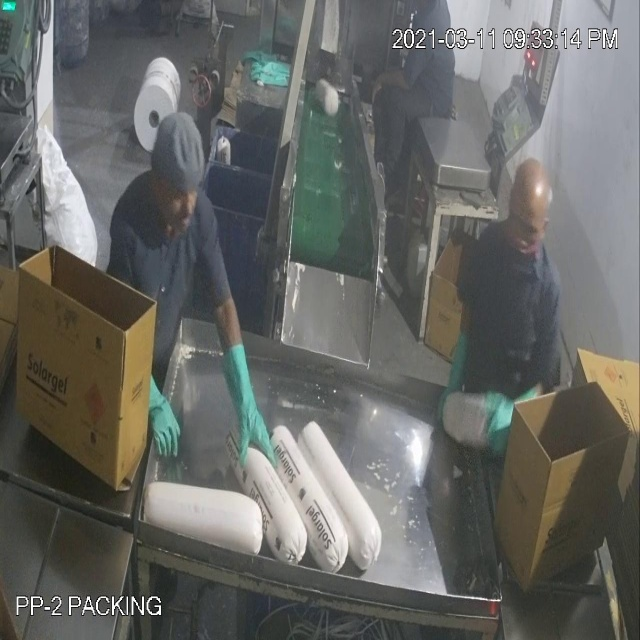Guantes: (224, 332, 278, 489)
Sin_guantes: (368, 64, 417, 110)
